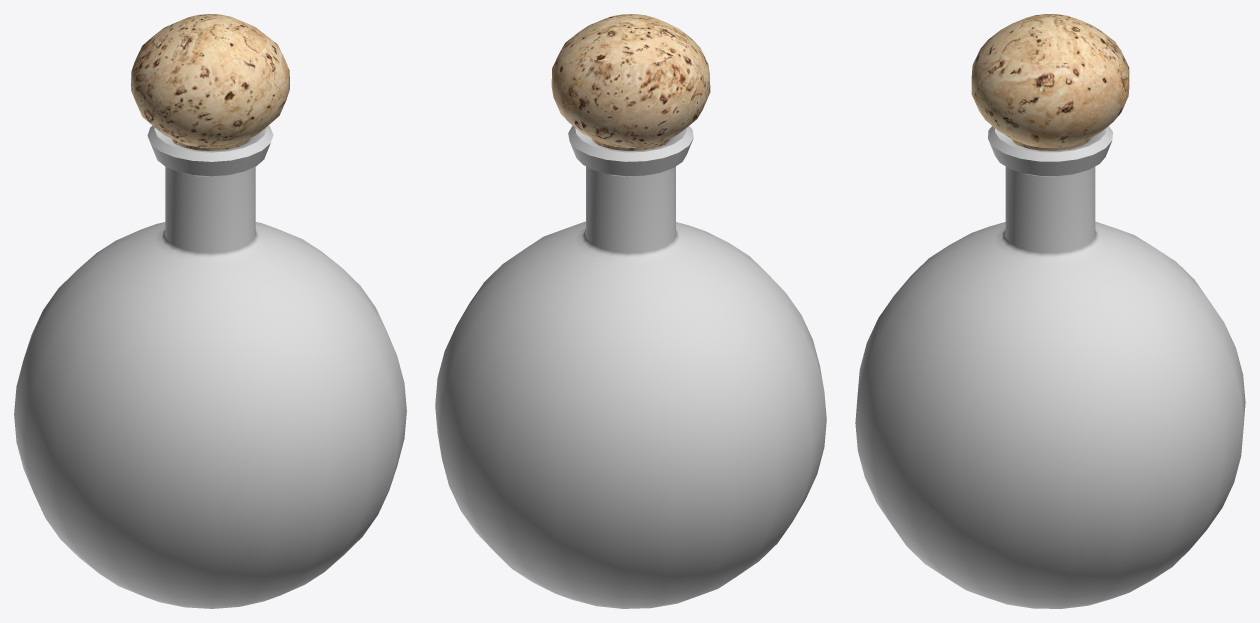
Rendered from tea_powder.fbx.
3 renders of one model, left to right at view 1: azimuth 30°, elevation 25°; view 2: azimuth 150°, elevation 25°; view 3: azimuth 270°, elevation 25°, orthographic.
Parts seen in each view (by area): view 1: g_bottle_m_glass_0.005, g_cork_m_cork_0.005; view 2: g_bottle_m_glass_0.005, g_cork_m_cork_0.005; view 3: g_bottle_m_glass_0.005, g_cork_m_cork_0.005.
Part boxes in pixels (<box>): g_bottle_m_glass_0.005: <box>14,125,406,608</box>; g_cork_m_cork_0.005: <box>131,14,289,150</box>; g_bottle_m_glass_0.005: <box>435,125,826,608</box>; g_cork_m_cork_0.005: <box>551,14,710,150</box>; g_bottle_m_glass_0.005: <box>855,126,1245,608</box>; g_cork_m_cork_0.005: <box>971,14,1129,150</box>.
Size of the model in its own units: 9.63 by 15.47 by 9.63.
Materials: 3 (2 with a texture image).
